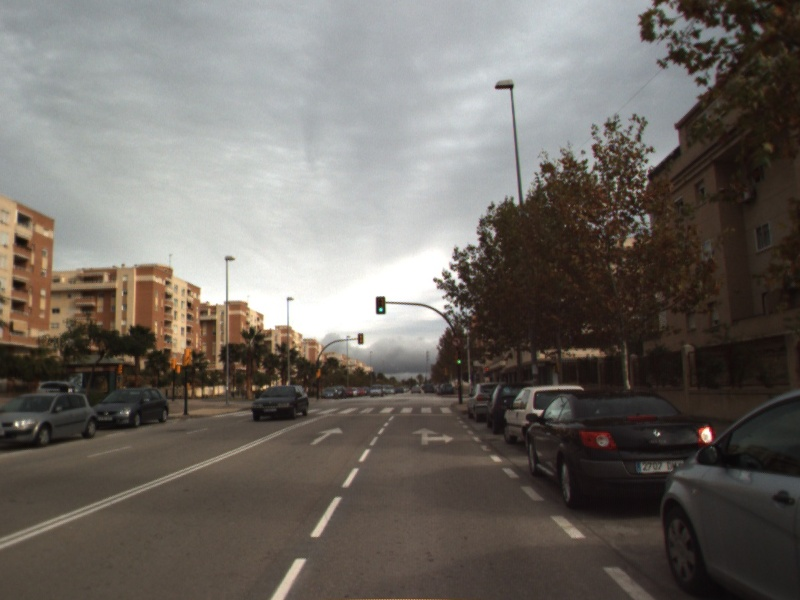STRAIGHT: (307, 425, 345, 447)
STRAIGHT_RIGHT: (410, 425, 456, 447)
